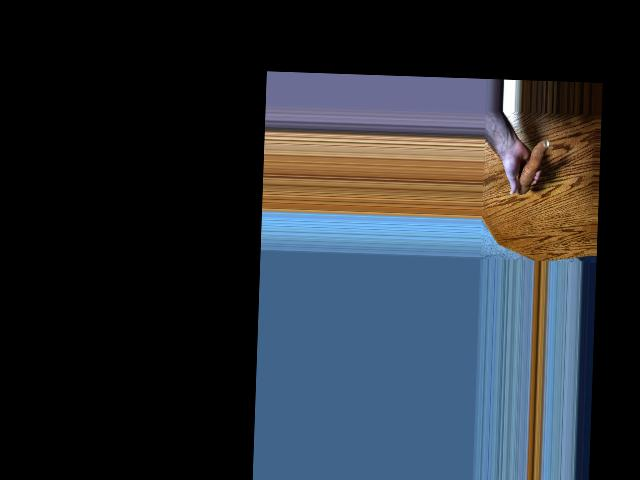sweet_potato: (518, 138, 549, 198)
